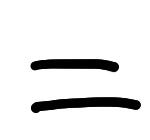eqv: (26, 54, 143, 115)
